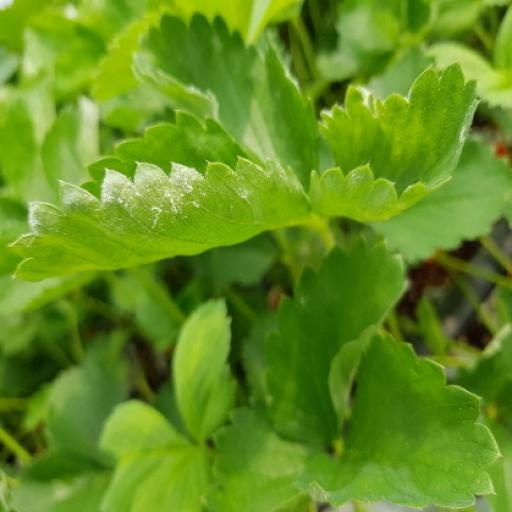Powdery Mildew Leaf: (201, 109, 510, 283), (31, 61, 203, 223)
